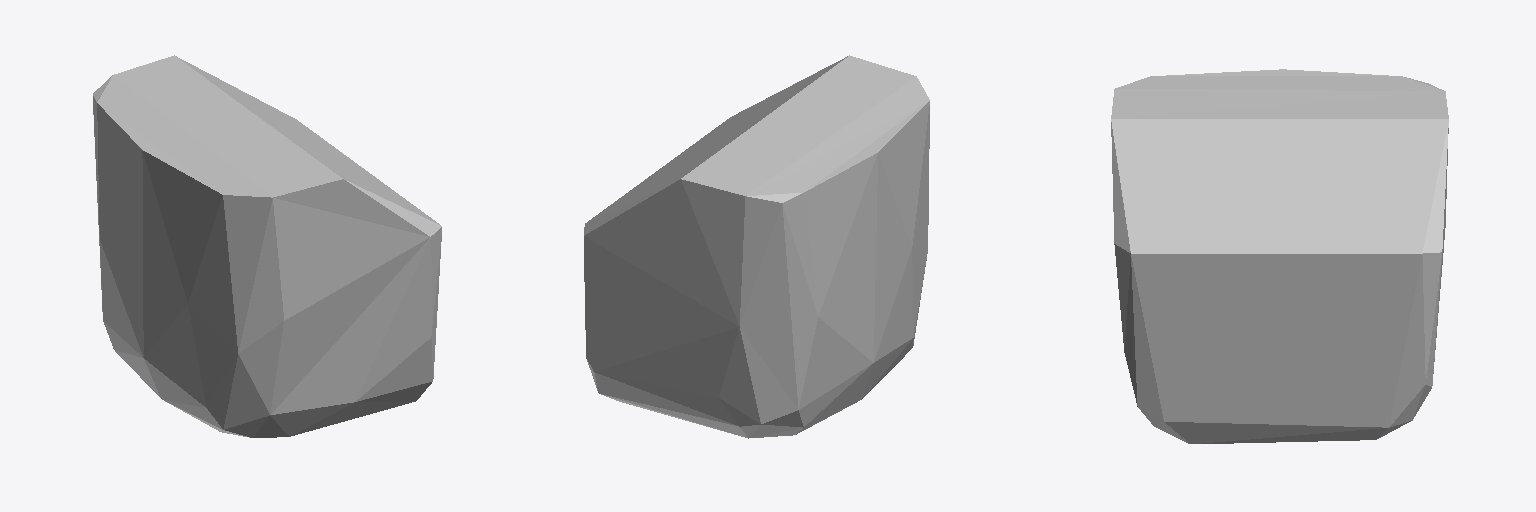
The model's file is wrist_roll_collision.obj.
The picture shows the model from 3 angles: view 1: azimuth 30°, elevation 25°; view 2: azimuth 150°, elevation 25°; view 3: azimuth 270°, elevation 25°; orthographic projection.
Size of the model in its own units: 0.078 by 0.092 by 0.102.